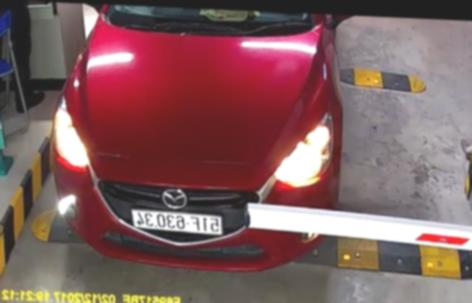License_Plate: (129, 207, 230, 237)
